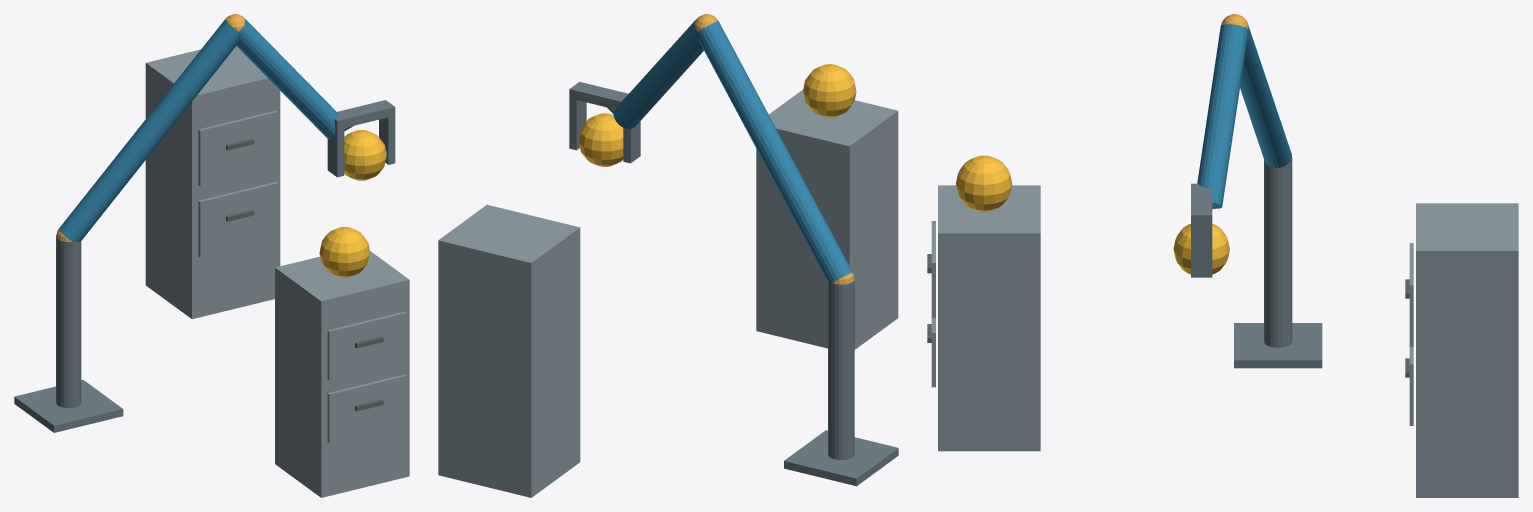
3 renders of one model, left to right at view 1: azimuth 30°, elevation 25°; view 2: azimuth 150°, elevation 25°; view 3: azimuth 270°, elevation 25°, orthographic. The views are drawn at different scales.
Visible parts, largest first — view 1: cabinet_2 body, cabinet_1 body, moving link 1, cabinet_2 drawer front.001, cabinet_2 drawer front, fixed post, cabinet_1 drawer front.001, cabinet_1 drawer front, moving link 2, pedestal, released ball_1, ball ball_2 (+3 smaller); view 2: cabinet_2 body, cabinet_1 body, moving link 1, fixed post, pedestal, moving link 2, released ball_1, ball ball_2, gripper bridge, gripper finger 1, gripper finger -1; view 3: cabinet_2 body, cabinet_1 body, fixed post, moving link 2, pedestal, moving link 1, released ball_1, ball ball_2, gripper finger 1, gripper bridge.
Boxes of the visible parts, <box> form: cabinet_2 body: <box>145,46,280,319</box>; cabinet_1 body: <box>275,251,409,497</box>; moving link 1: <box>59,19,238,242</box>; cabinet_2 drawer front.001: <box>198,110,277,186</box>; cabinet_2 drawer front: <box>198,182,277,257</box>; fixed post: <box>56,236,81,407</box>; cabinet_1 drawer front.001: <box>327,311,407,380</box>; cabinet_1 drawer front: <box>327,374,407,443</box>; moving link 2: <box>236,18,344,139</box>; pedestal: <box>14,380,123,432</box>; released ball_1: <box>319,227,369,277</box>; ball ball_2: <box>344,130,386,180</box>; cabinet_2 body: <box>438,204,580,497</box>; cabinet_1 body: <box>756,90,898,349</box>; moving link 1: <box>697,21,852,283</box>; fixed post: <box>828,278,854,459</box>; pedestal: <box>784,430,898,486</box>; moving link 2: <box>613,18,703,128</box>; released ball_1: <box>803,64,856,117</box>; ball ball_2: <box>578,113,623,166</box>; gripper bridge: <box>569,81,628,109</box>; gripper finger 1: <box>569,98,586,150</box>; gripper finger -1: <box>623,121,640,163</box>; cabinet_2 body: <box>1416,203,1518,497</box>; cabinet_1 body: <box>938,185,1040,451</box>; fixed post: <box>1264,158,1292,347</box>; moving link 2: <box>1197,24,1248,208</box>; pedestal: <box>1234,323,1322,368</box>; moving link 1: <box>1240,24,1291,167</box>; released ball_1: <box>956,155,1012,211</box>; ball ball_2: <box>1173,223,1229,274</box>; gripper finger 1: <box>1191,224,1212,277</box>; gripper bridge: <box>1191,183,1212,224</box>.
Size of the model in its own units: 1.17 by 1.29 by 1.67.
